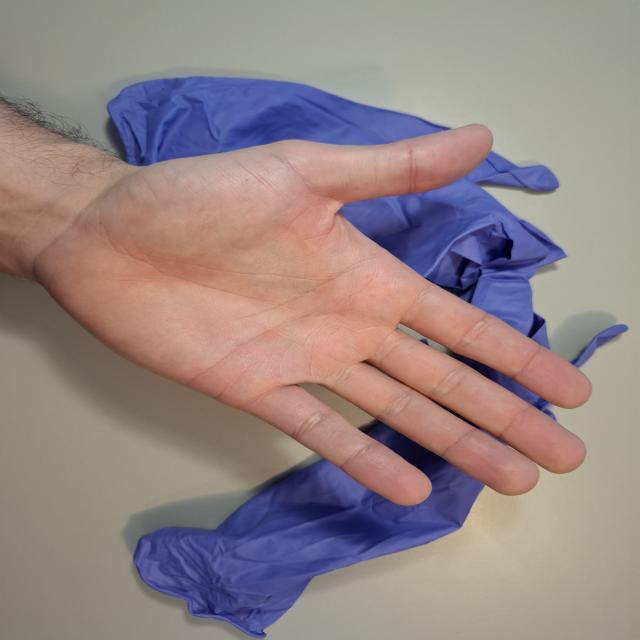glove_off: (27, 120, 602, 506)
